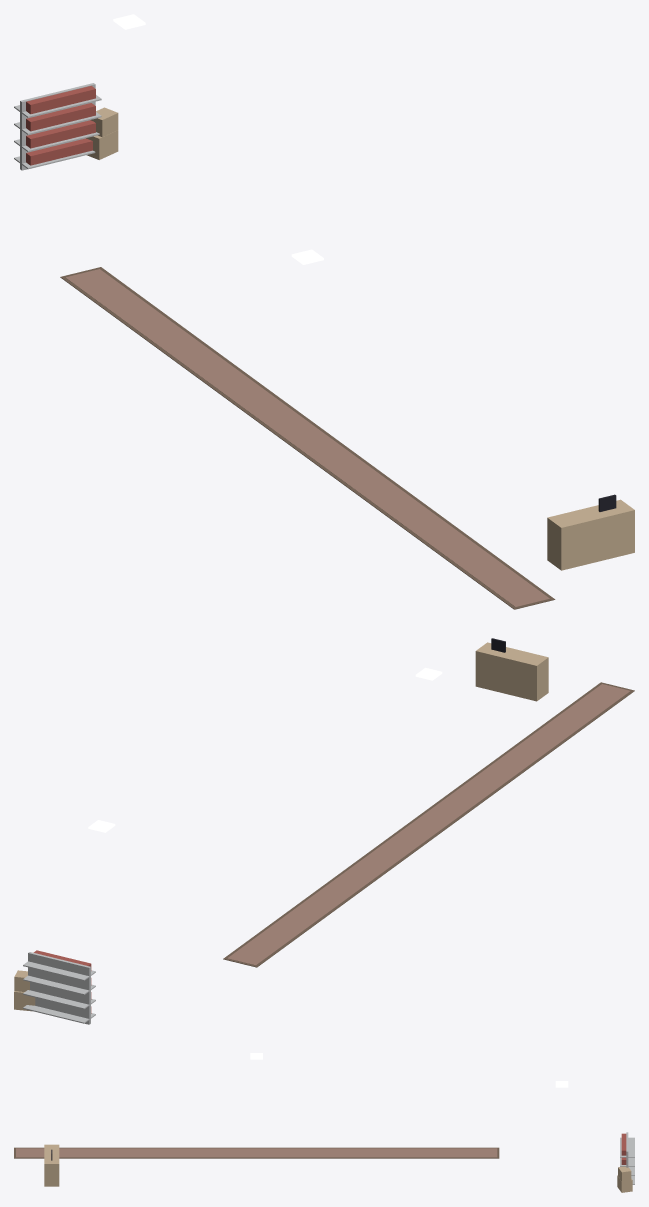
The model's file is fine-s0.glb.
The picture shows the model from 3 angles, top to bottom: view 1: azimuth 30°, elevation 25°; view 2: azimuth 150°, elevation 25°; view 3: azimuth 270°, elevation 25°; orthographic projection. The views are drawn at different scales.
Parts seen in each view (by area): view 1: soft-s0, shelving.000, shop-counter.000, cardboard-box.000; view 2: soft-s0, shelving.000, shop-counter.000, cardboard-box.000; view 3: soft-s0, shop-counter.000, shelving.000, cardboard-box.000.
Part boxes in pixels (x1=…): soft-s0: x1=60, y1=267, x2=555, y2=609; shelving.000: x1=14, y1=83, x2=101, y2=170; shop-counter.000: x1=547, y1=494, x2=634, y2=570; cardboard-box.000: x1=86, y1=107, x2=118, y2=159; soft-s0: x1=223, y1=682, x2=634, y2=967; shelving.000: x1=23, y1=950, x2=95, y2=1024; shop-counter.000: x1=475, y1=638, x2=548, y2=701; cardboard-box.000: x1=14, y1=970, x2=35, y2=1011; soft-s0: x1=14, y1=1147, x2=499, y2=1158; shop-counter.000: x1=44, y1=1144, x2=59, y2=1186; shelving.000: x1=620, y1=1132, x2=634, y2=1184; cardboard-box.000: x1=617, y1=1166, x2=632, y2=1192.
Size of the model in its own units: 4.23 by 4.27 by 24.63.
